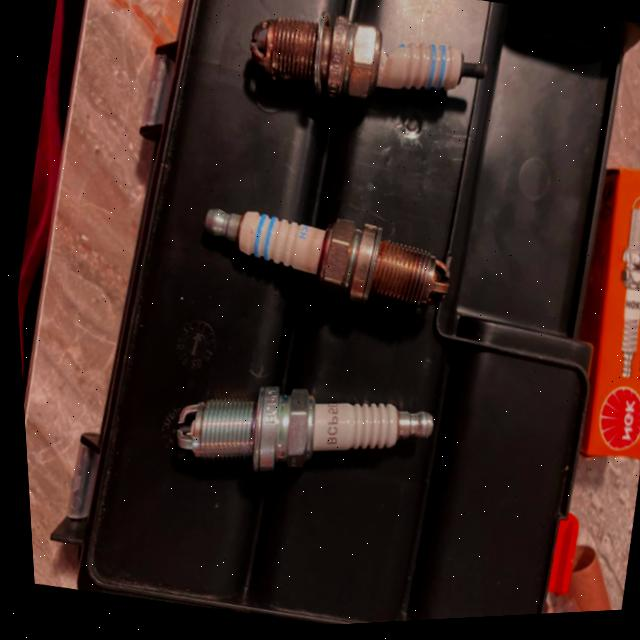damaged_spark-plug: (234, 0, 501, 140)
spark-plug: (155, 343, 448, 518), (188, 171, 472, 339)
